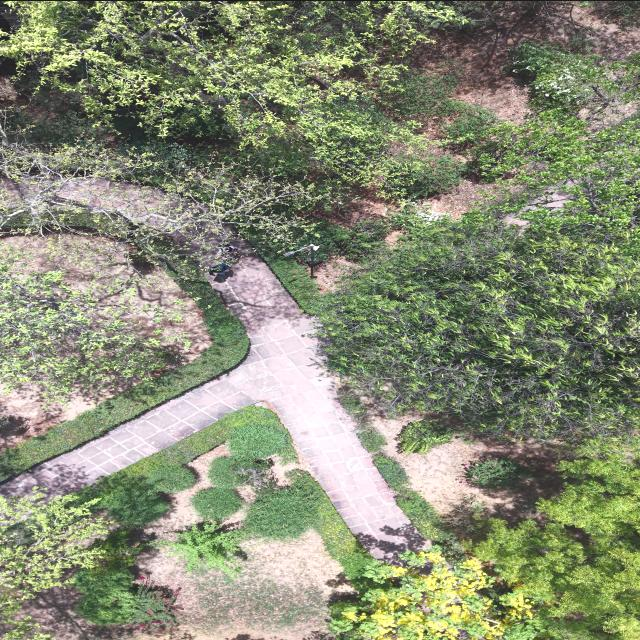DRY_AREA: (2, 255, 420, 556), (16, 529, 352, 639), (16, 530, 351, 639), (0, 234, 210, 368), (405, 3, 639, 122), (131, 529, 352, 639), (368, 413, 564, 535), (136, 530, 351, 639)
PATHWAYS: (0, 254, 423, 558)
VEGETATION_TREE: (0, 1, 639, 639), (320, 44, 639, 639), (1, 1, 492, 270), (320, 43, 639, 452), (1, 1, 464, 247), (2, 3, 486, 228), (2, 1, 463, 195), (321, 214, 639, 442), (64, 406, 375, 631), (69, 406, 370, 625), (0, 103, 335, 279), (330, 454, 639, 639), (331, 454, 639, 639), (0, 267, 247, 478), (68, 406, 285, 625), (0, 126, 317, 275), (78, 406, 327, 537), (471, 43, 639, 234), (472, 42, 639, 226), (470, 458, 639, 639), (0, 246, 188, 402), (64, 529, 329, 638), (77, 405, 295, 528), (338, 387, 463, 559), (473, 110, 639, 237), (186, 470, 369, 577), (329, 551, 532, 639), (0, 488, 107, 639), (250, 218, 395, 314), (109, 405, 280, 477), (0, 488, 107, 599), (72, 529, 180, 627), (507, 42, 639, 119), (373, 453, 463, 559), (378, 66, 496, 146), (286, 470, 371, 579), (197, 575, 326, 632), (511, 42, 615, 108), (74, 567, 180, 625), (208, 422, 292, 490), (395, 487, 464, 561), (244, 476, 324, 538), (153, 523, 244, 577), (451, 1, 639, 26), (378, 70, 470, 119), (80, 476, 170, 525), (296, 219, 391, 264), (261, 250, 324, 314), (337, 385, 386, 452), (333, 220, 390, 262), (440, 104, 498, 145), (228, 423, 289, 459), (91, 528, 144, 569), (398, 417, 454, 453), (132, 583, 180, 625), (442, 493, 485, 538), (463, 457, 524, 487), (208, 456, 267, 487), (190, 487, 243, 520), (230, 457, 271, 490), (146, 465, 196, 492), (373, 453, 408, 490), (596, 1, 639, 26), (453, 1, 503, 22), (1, 618, 50, 639), (208, 456, 238, 487), (356, 427, 386, 452)
